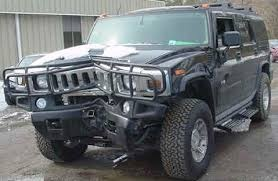Broken-glass: (217, 18, 235, 47)
Dent: (178, 50, 218, 78)
Smashed: (4, 45, 185, 140)
